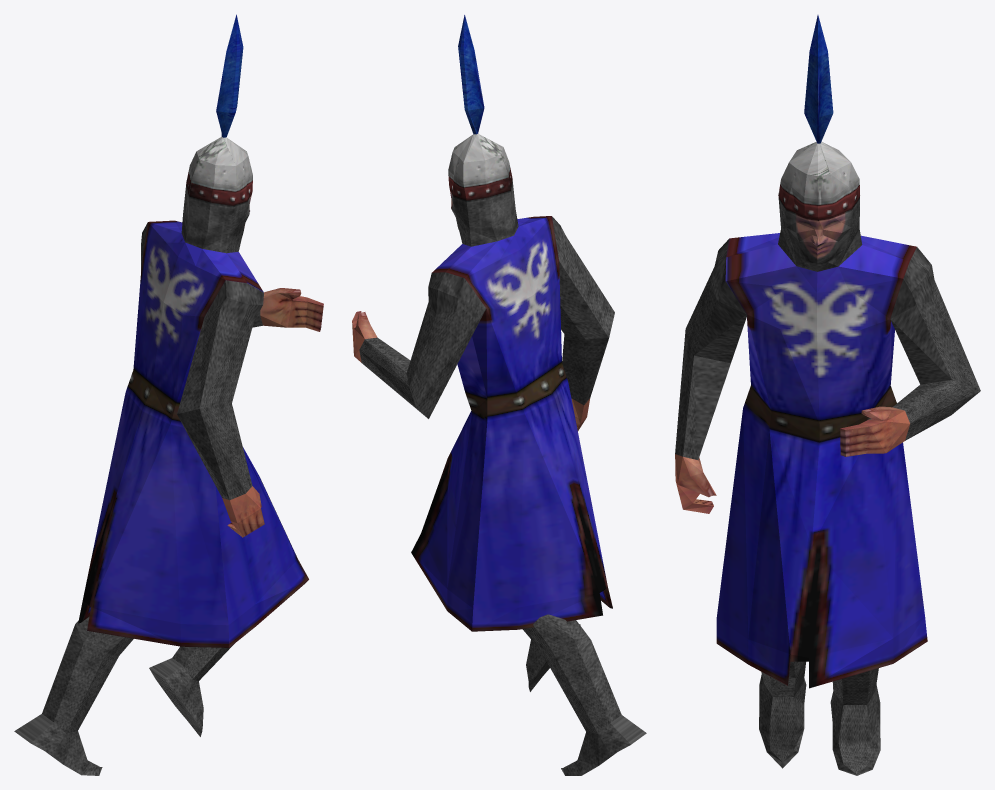
File: guard_run16.obj
3 views of the same model, side by side, from view 1: azimuth 30°, elevation 25°; view 2: azimuth 150°, elevation 25°; view 3: azimuth 270°, elevation 25° (orthographic). The views are drawn at different scales.
Visible parts, largest first — view 1: Object_1; view 2: Object_1; view 3: Object_1.
Boxes of the visible parts, <box> form: Object_1: <box>14,14,323,775</box>; Object_1: <box>352,15,646,775</box>; Object_1: <box>675,15,980,775</box>.
Size of the model in its own units: 0.9353 by 2.22 by 0.7458.
Materials: 1 (1 with a texture image).
